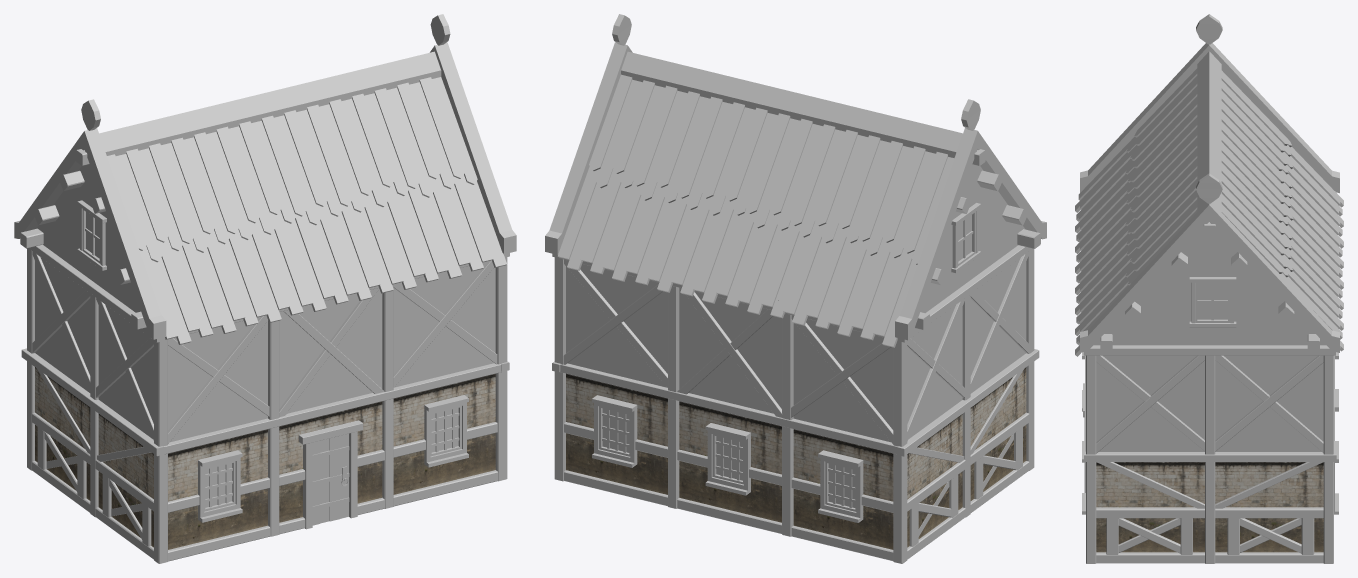
Rendered from Building-13.fbx.
The picture shows the model from 3 angles, left to right: view 1: azimuth 30°, elevation 25°; view 2: azimuth 150°, elevation 25°; view 3: azimuth 270°, elevation 25°; orthographic projection. The views are drawn at different scales.
Visible parts, largest first — view 1: Plane.029; view 2: Plane.029; view 3: Plane.029.
Boxes of the visible parts, x1,y1,x2,y2 form: Plane.029: (14,14,516,563); Plane.029: (545,14,1046,563); Plane.029: (1075,14,1343,563).
Size of the model in its own units: 986 by 1055 by 661.
